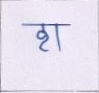aa_matra: (56, 26, 61, 51)
